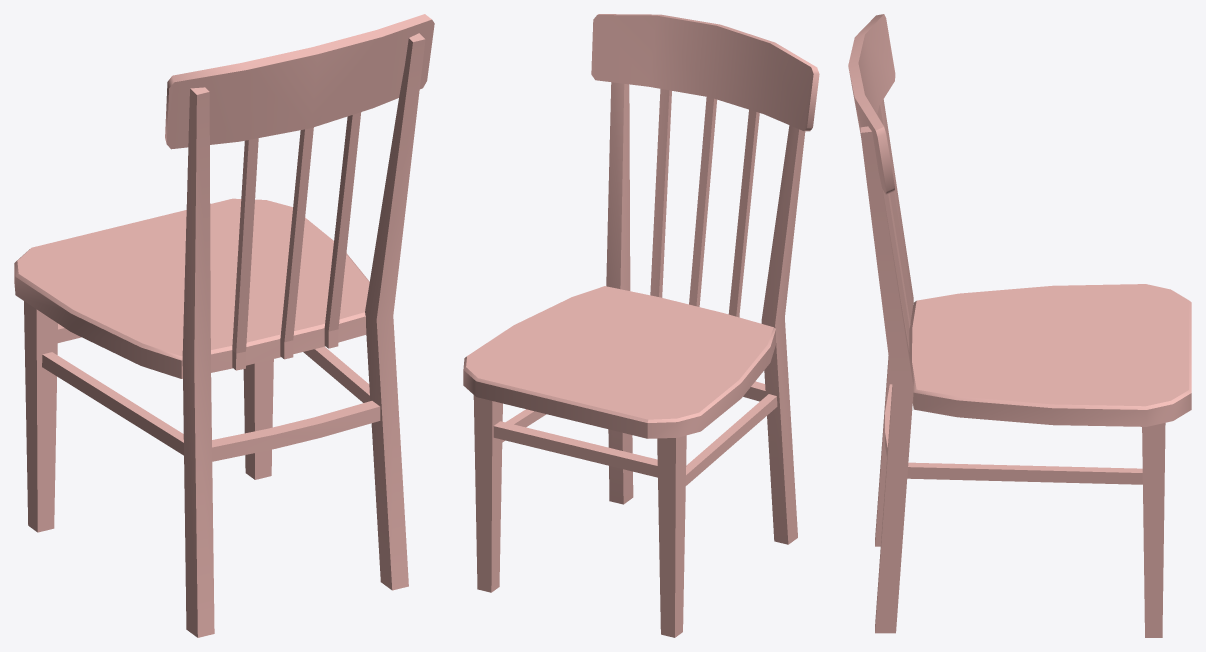
File: chair3.fbx
The picture shows the model from 3 angles, left to right: view 1: azimuth 30°, elevation 25°; view 2: azimuth 150°, elevation 25°; view 3: azimuth 270°, elevation 25°; orthographic projection. The views are drawn at different scales.
Parts seen in each view (by area): view 1: chair_02; view 2: chair_02; view 3: chair_02.
Boxes of the visible parts, bbox=[...] form: chair_02: bbox=[14, 14, 434, 637]; chair_02: bbox=[463, 14, 819, 637]; chair_02: bbox=[848, 14, 1191, 637].
Size of the model in its own units: 101 by 198 by 118.
